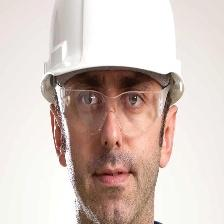Person: (38, 1, 187, 224)
helmet: (40, 1, 187, 110)
